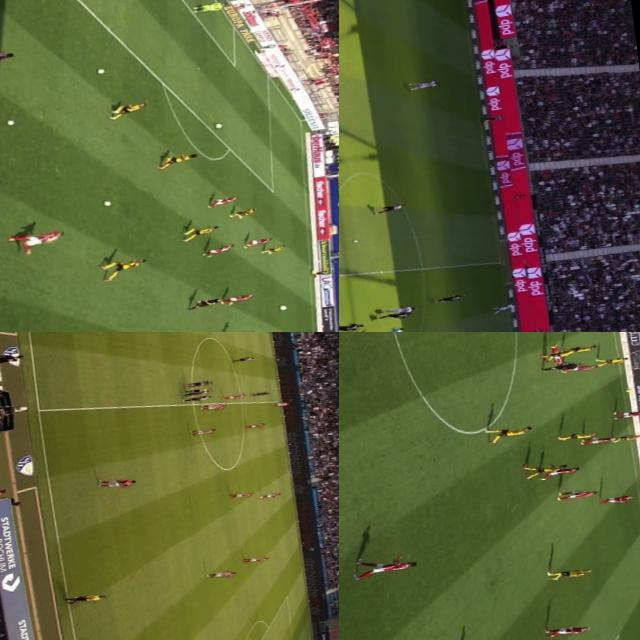ball: (100, 200, 113, 207), (276, 304, 287, 312), (2, 119, 14, 126), (92, 68, 106, 74), (212, 123, 220, 128), (349, 239, 358, 243), (220, 402, 226, 406)
player: (351, 556, 420, 580), (95, 256, 146, 282), (485, 422, 534, 442), (548, 564, 596, 582), (178, 224, 220, 243), (94, 474, 137, 492), (545, 622, 592, 638), (152, 154, 196, 169), (524, 462, 568, 477), (538, 464, 580, 479), (198, 243, 235, 260), (554, 488, 598, 501), (600, 492, 638, 505), (370, 202, 407, 215), (372, 310, 412, 322), (223, 207, 258, 220), (216, 294, 252, 306), (378, 304, 414, 316), (580, 434, 616, 446), (202, 196, 237, 208), (201, 568, 236, 580), (563, 342, 598, 354), (542, 347, 576, 359), (239, 236, 272, 248), (563, 362, 598, 373), (254, 244, 284, 256), (564, 430, 600, 440), (238, 554, 270, 565), (611, 408, 640, 420), (430, 294, 464, 304), (596, 356, 630, 366), (406, 80, 436, 91), (489, 302, 516, 314), (180, 379, 212, 389), (180, 393, 212, 403), (197, 401, 226, 412), (551, 344, 564, 367), (187, 427, 216, 437), (339, 321, 362, 332), (228, 355, 256, 364), (180, 388, 210, 396), (220, 392, 246, 401), (243, 420, 265, 430), (228, 491, 252, 500), (257, 492, 281, 500), (613, 433, 640, 440), (249, 390, 270, 398), (215, 329, 256, 332), (270, 402, 290, 408)
